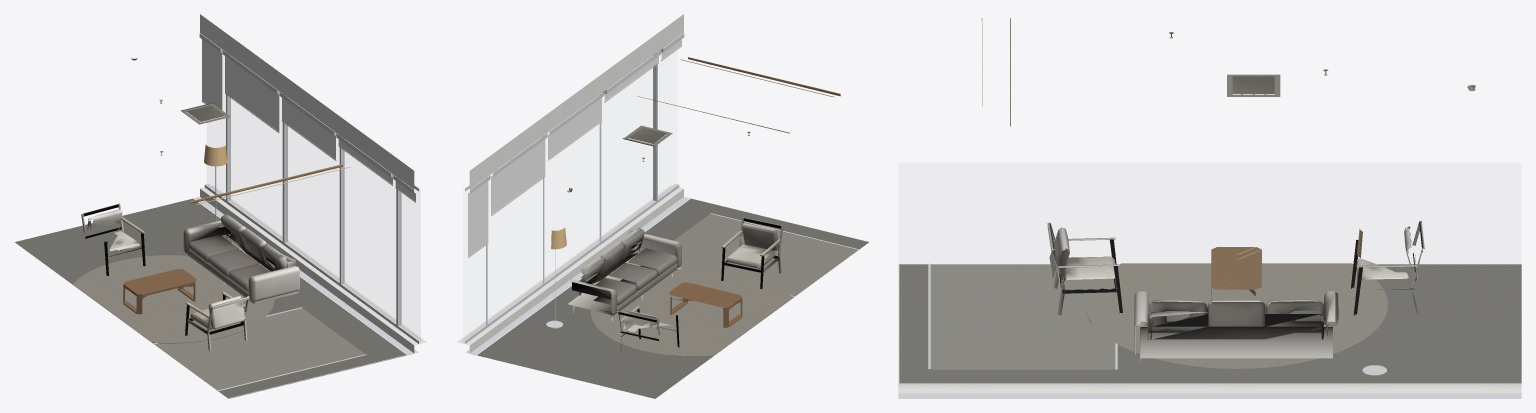
Rendered from z-final-lite.light.486a5f8a.glb.
3 views of the same model, side by side, from view 1: azimuth 30°, elevation 25°; view 2: azimuth 150°, elevation 25°; view 3: azimuth 270°, elevation 25° (orthographic). The views are drawn at different scales.
Parts seen in each view (by area): view 1: final_carpet, final_satin, final_fx, final_plaster, final_modern_coffee_table_01, final_emit, final_oak, final_metal_lit; view 2: final_carpet, final_satin, final_fx, final_plaster, final_modern_coffee_table_01, final_oak, final_emit, final_metal_lit; view 3: final_carpet, final_fx, final_satin, final_plaster, final_modern_coffee_table_01.
Part boxes in pixels (box(x1,y1,x2,y2)): final_carpet: box(15, 198, 413, 398); final_satin: box(153, 33, 422, 391); final_fx: box(81, 58, 299, 350); final_plaster: box(200, 14, 426, 352); final_modern_coffee_table_01: box(123, 269, 196, 314); final_emit: box(196, 144, 350, 204); final_oak: box(190, 164, 342, 203); final_metal_lit: box(193, 198, 408, 398); final_carpet: box(470, 198, 868, 398); final_satin: box(461, 33, 858, 354); final_fx: box(567, 125, 783, 355); final_plaster: box(457, 14, 683, 352); final_modern_coffee_table_01: box(669, 282, 742, 327); final_oak: box(637, 57, 840, 133); final_emit: box(551, 59, 833, 249); final_metal_lit: box(476, 198, 868, 354); final_carpet: box(899, 263, 1521, 383); final_fx: box(1047, 32, 1475, 361); final_satin: box(898, 263, 1521, 398); final_plaster: box(898, 386, 1521, 393); final_modern_coffee_table_01: box(1211, 247, 1261, 300).
Bounding box in the file's own units: 3.75 × 3.3 × 7.
Materials: 9 (4 with a texture image).
